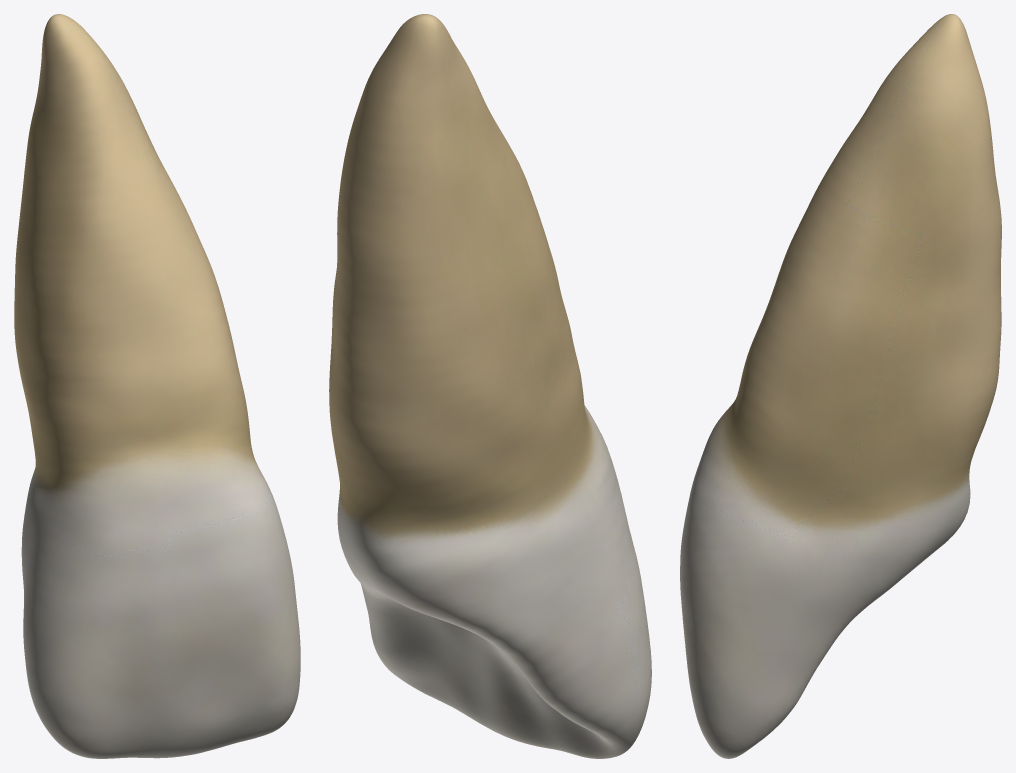
3 renders of one model, left to right at view 1: azimuth 30°, elevation 25°; view 2: azimuth 150°, elevation 25°; view 3: azimuth 270°, elevation 25°, orthographic. The views are drawn at different scales.
Visible parts, largest first — view 1: diente-11; view 2: diente-11; view 3: diente-11.
Part boxes in pixels (bbox=[...]): diente-11: bbox=[14, 14, 300, 758]; diente-11: bbox=[329, 14, 651, 758]; diente-11: bbox=[680, 14, 1001, 758].
Size of the model in its own units: 0.0086 by 0.0235 by 0.00979.
1 material, 1 textured.
